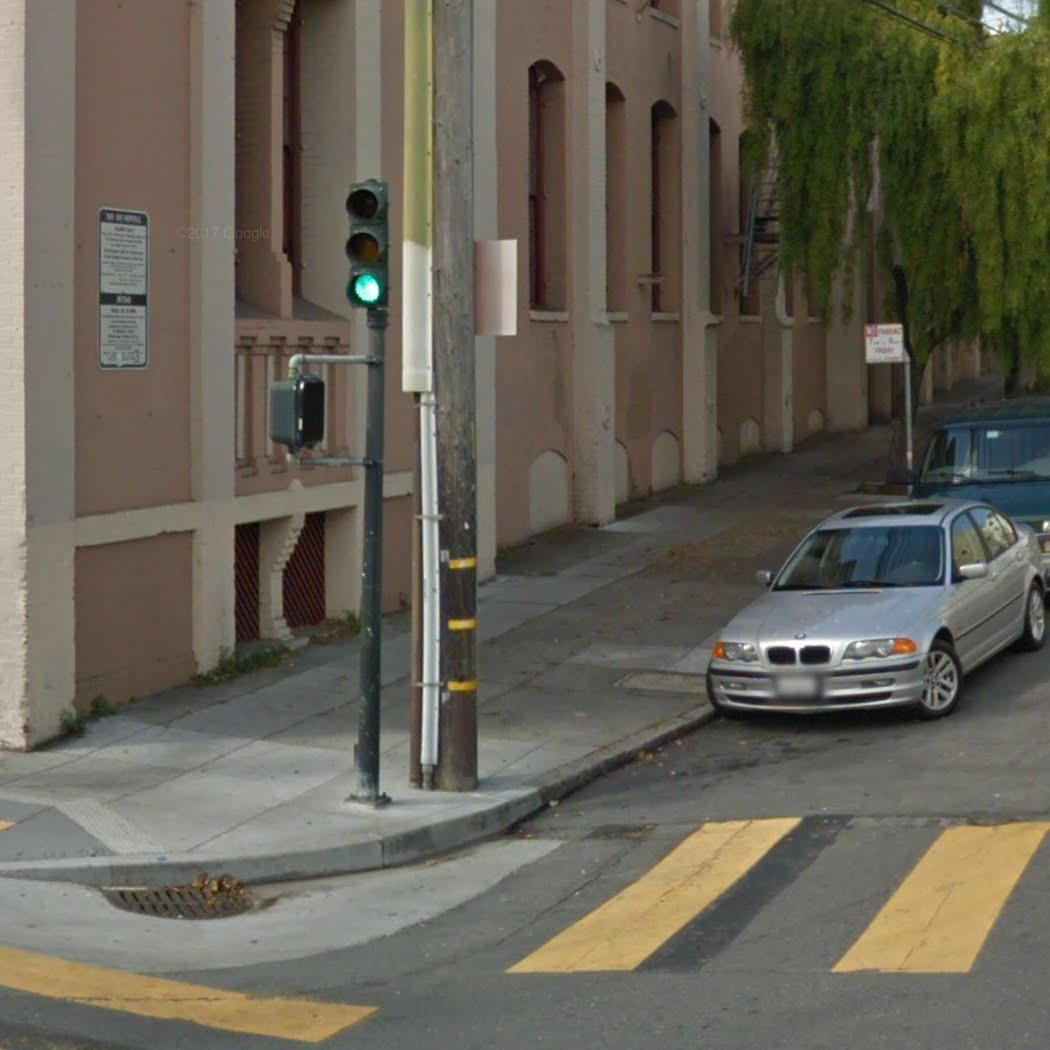No Parking: (860, 321, 905, 365)
